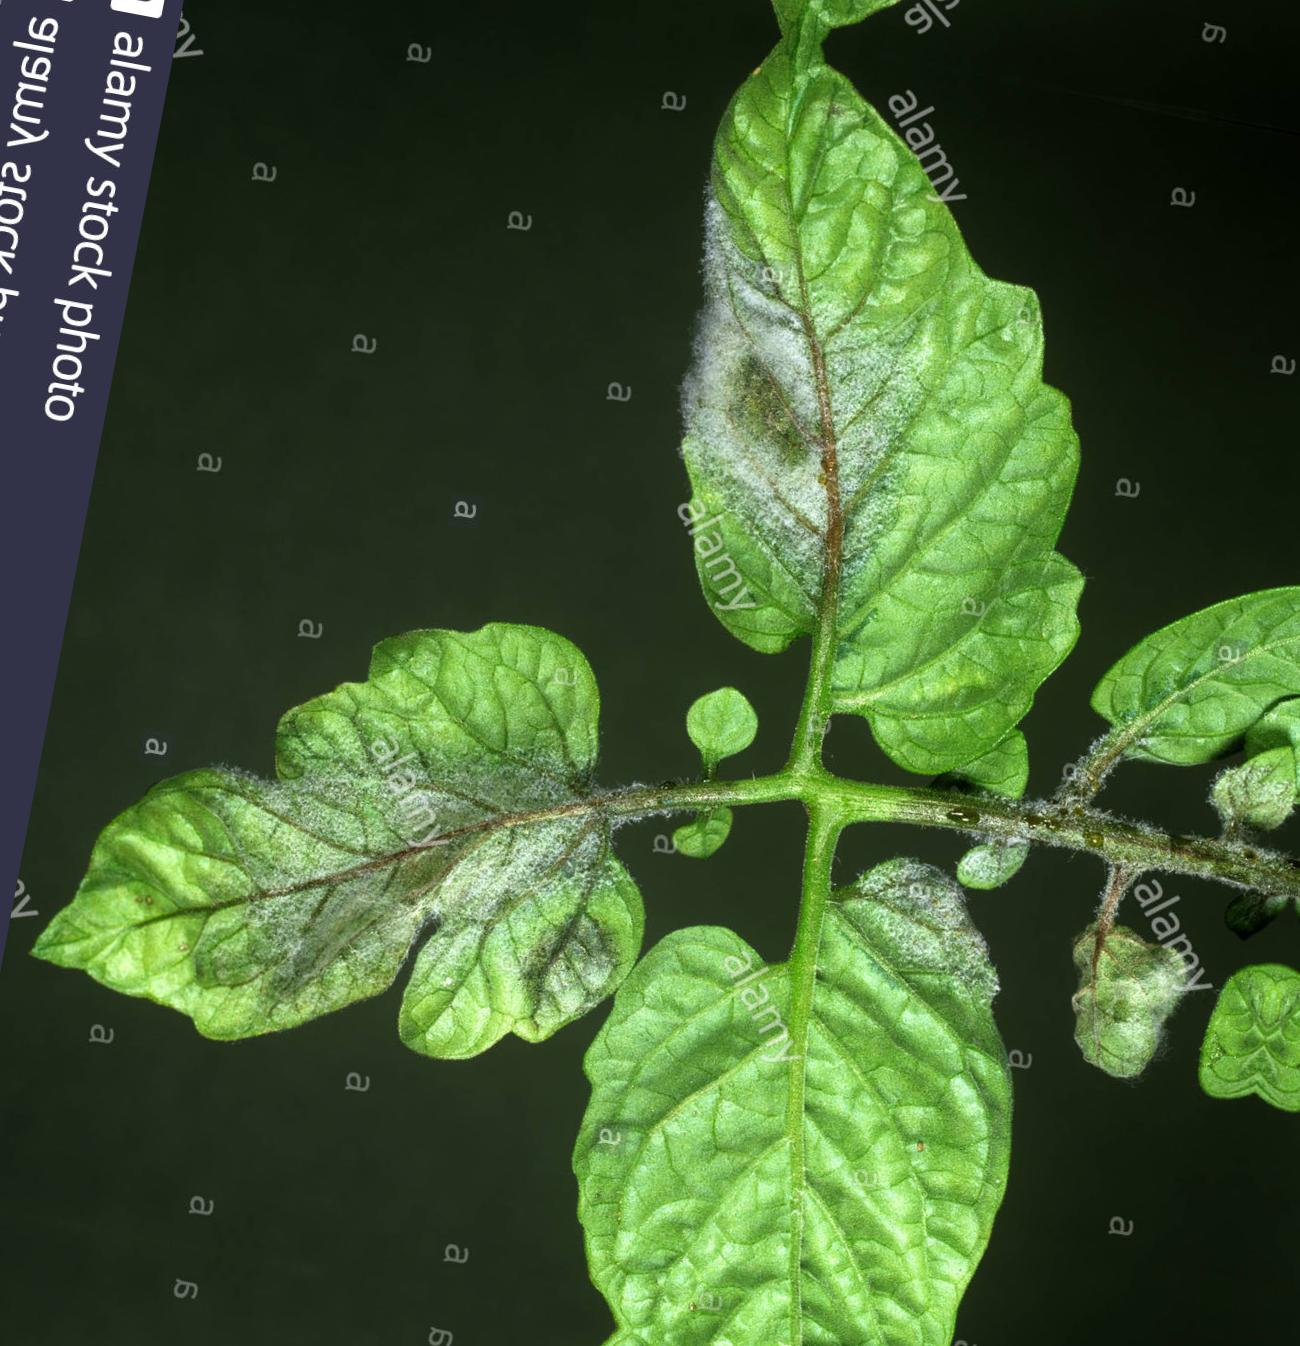Tomato leaf late blight: (591, 49, 1194, 839), (10, 543, 690, 1126), (515, 788, 1084, 1346)
